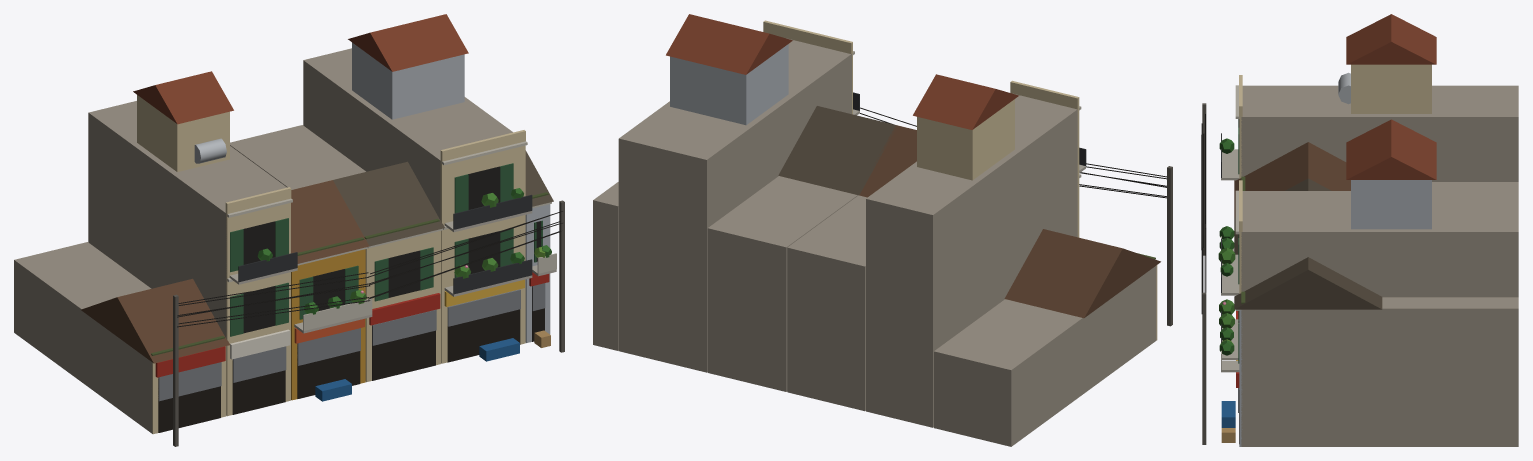
Rendered from hanoi_tube_houses_a.glb.
The picture shows the model from 3 angles, left to right: view 1: azimuth 30°, elevation 25°; view 2: azimuth 150°, elevation 25°; view 3: azimuth 270°, elevation 25°; orthographic projection. The views are drawn at different scales.
Parts seen in each view (by area): view 1: HanoiTubeHouses_mat0; view 2: HanoiTubeHouses_mat0; view 3: HanoiTubeHouses_mat0.
Boxes of the visible parts, bbox=[...] form: HanoiTubeHouses_mat0: bbox=[14, 14, 564, 446]; HanoiTubeHouses_mat0: bbox=[593, 14, 1172, 446]; HanoiTubeHouses_mat0: bbox=[1201, 14, 1518, 446].
Size of the model in its own units: 20.1 by 13.2 by 13.72.
